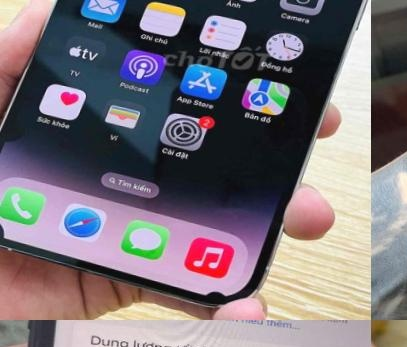scratch: (23, 320, 53, 347)
screen_defect: (0, 214, 7, 238), (203, 289, 224, 297)
